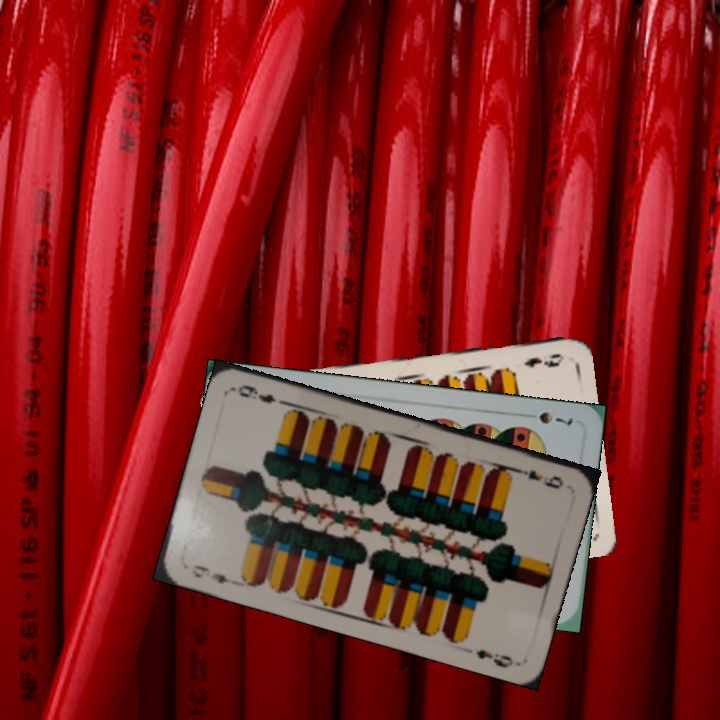E9: (511, 464, 566, 492), (187, 560, 239, 588), (520, 349, 567, 370)
S7: (518, 407, 576, 428)
